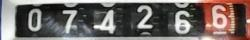digits: (98, 9, 118, 35), (135, 5, 154, 30), (211, 4, 229, 29), (174, 10, 192, 34), (61, 9, 78, 33), (27, 8, 41, 30)
